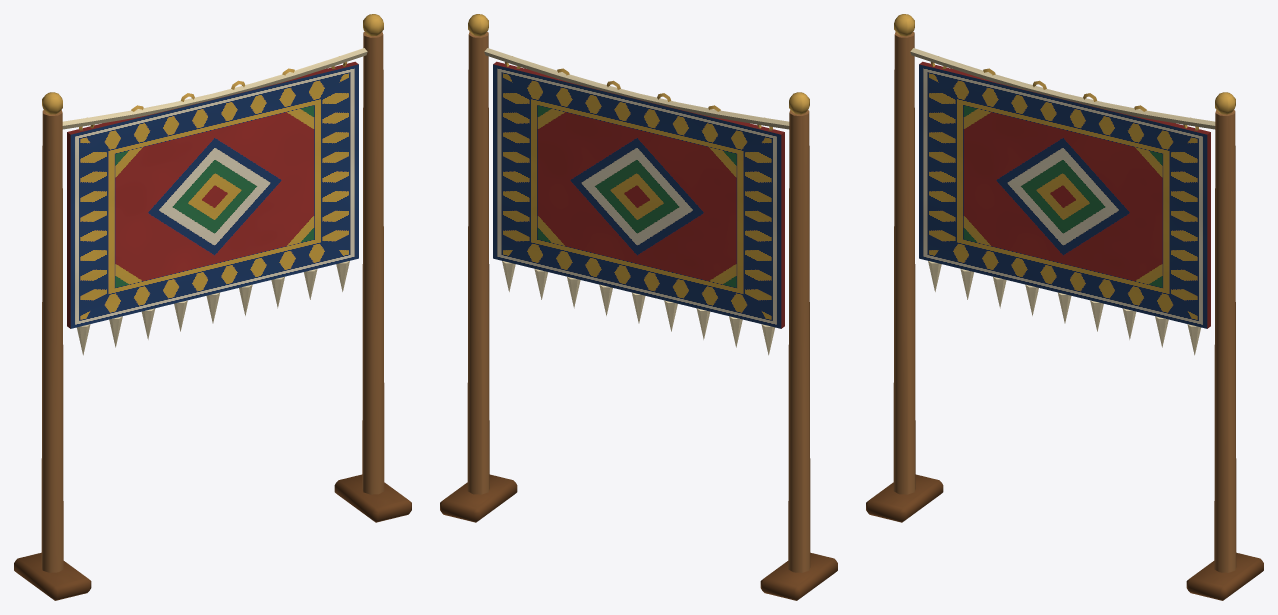
Rendered from prop_carpet_rope.glb.
3 renders of one model, left to right at view 1: azimuth 30°, elevation 25°; view 2: azimuth 150°, elevation 25°; view 3: azimuth 330°, elevation 25°, orthographic.
Visible parts, largest first — view 1: prop_carpet_rope; view 2: prop_carpet_rope; view 3: prop_carpet_rope.
Boxes of the visible parts, bbox=[...] form: prop_carpet_rope: bbox=[14, 14, 411, 600]; prop_carpet_rope: bbox=[440, 14, 837, 600]; prop_carpet_rope: bbox=[866, 14, 1263, 600].
Size of the model in its own units: 2 by 2.6 by 0.4.
1 material, 1 textured.
